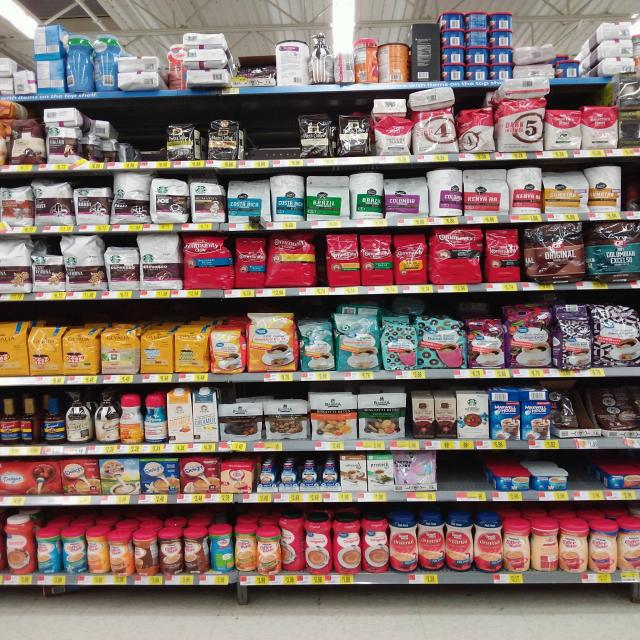void: (250, 100, 295, 168), (83, 101, 125, 169), (129, 98, 166, 168), (572, 450, 608, 499), (438, 450, 467, 502), (468, 452, 490, 501)
